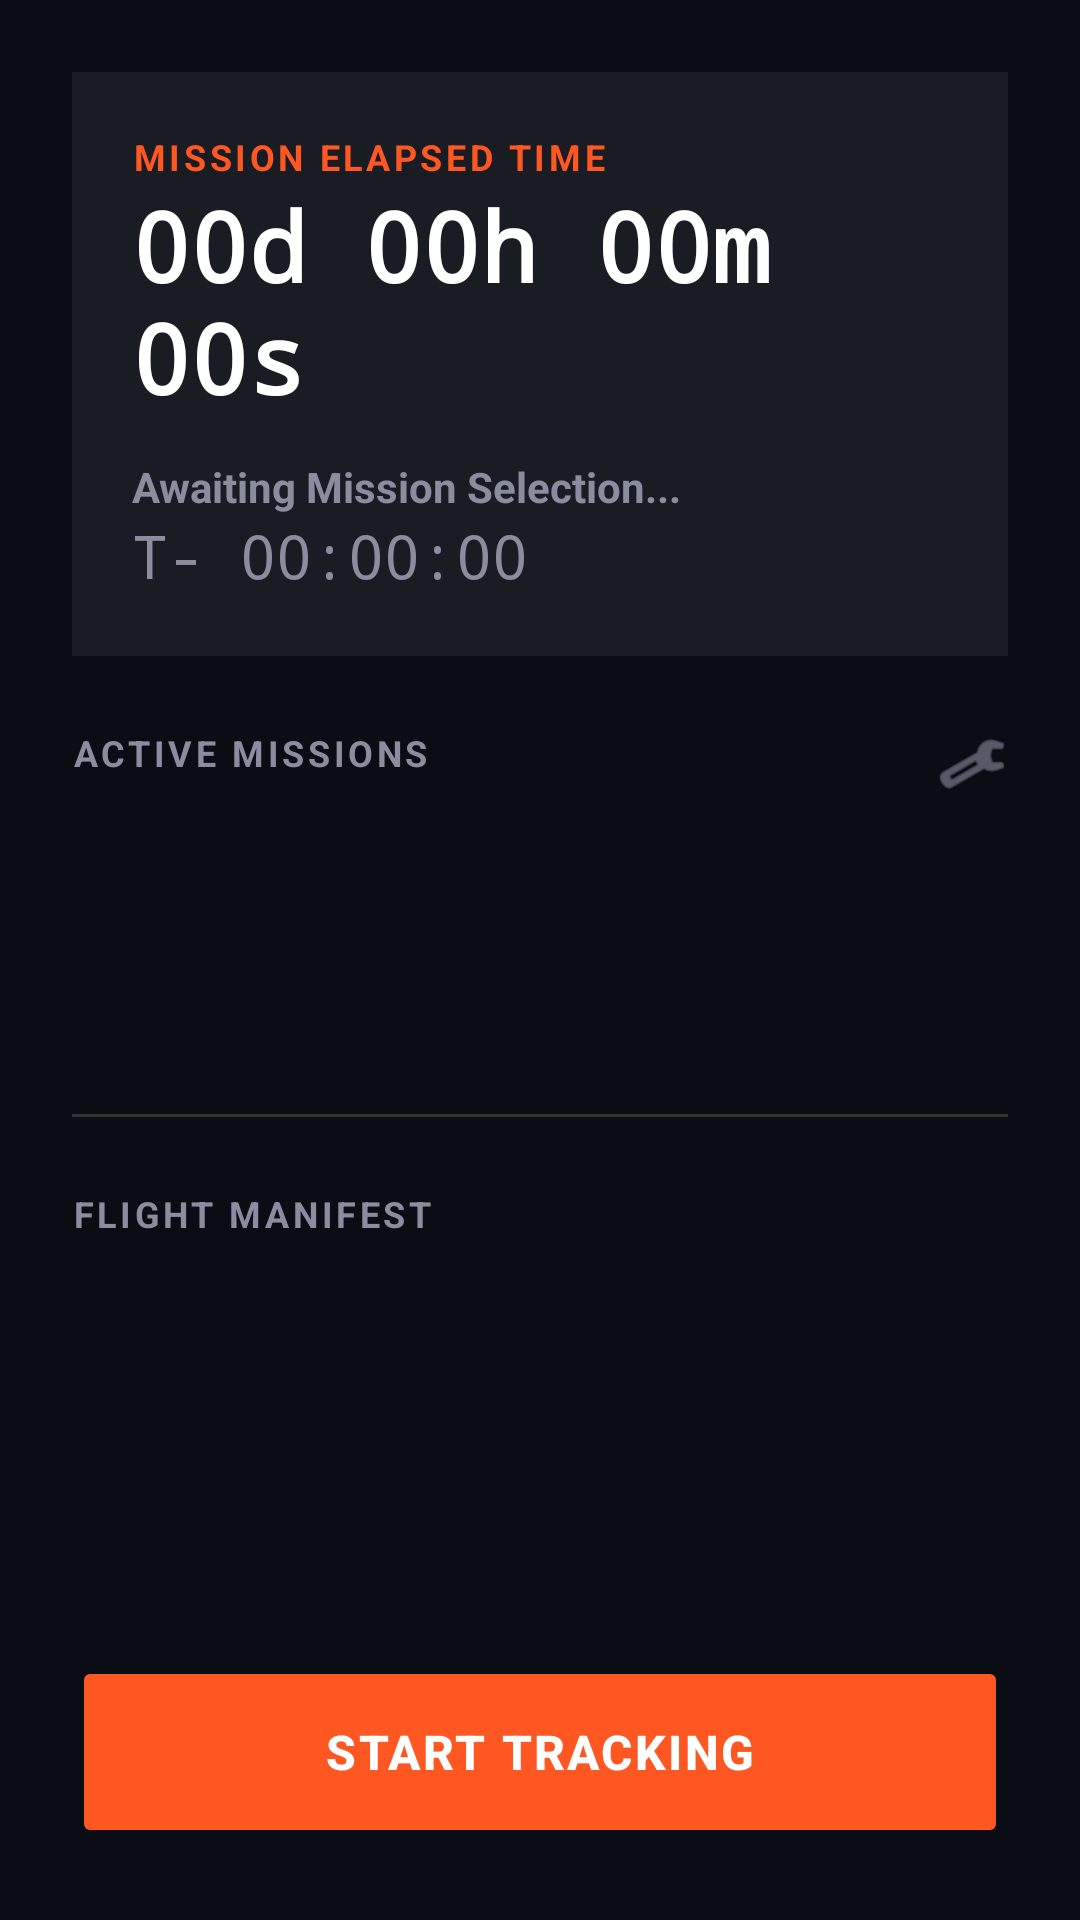

Screen size 1080×1920. Icon name, then its center in pixels as [x,y]:
preferences: [972,764]
